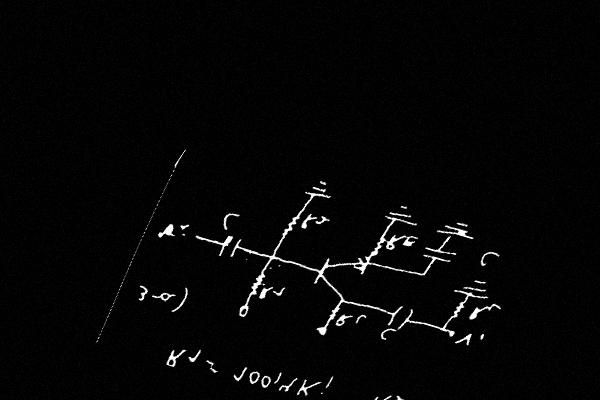capacitor: (208, 232, 249, 264), (381, 301, 422, 333), (414, 242, 459, 270)
ground: (448, 273, 499, 306), (430, 216, 483, 247), (378, 200, 429, 231), (300, 177, 341, 205)
resistor: (271, 207, 307, 247), (238, 267, 274, 304), (443, 296, 473, 327), (363, 231, 393, 261), (320, 301, 347, 327)
